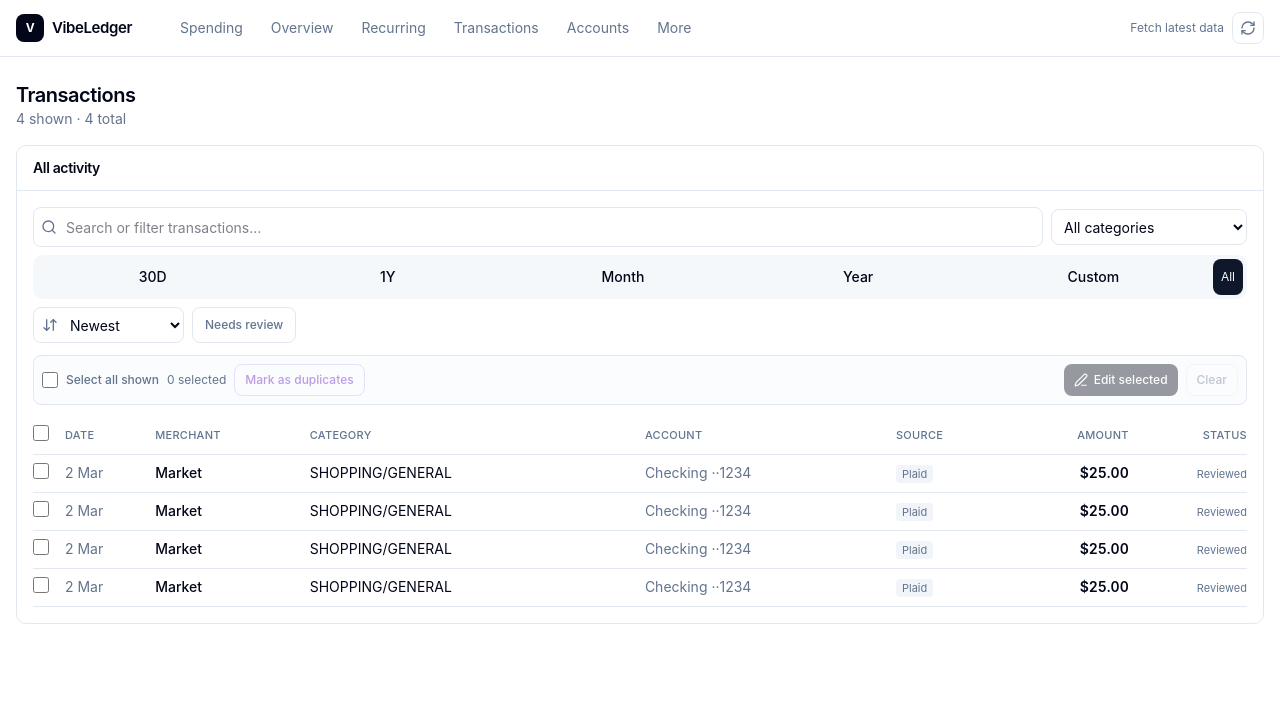
Test: PI-17 frozen duplicate-correction interaction contract › gives deterministic feedback for one or more than two selected rows
The width and height of the screenshot is (1280, 720).
Click the 1st checkbox named "Select Market" at (41, 471), box [33, 463, 49, 479]
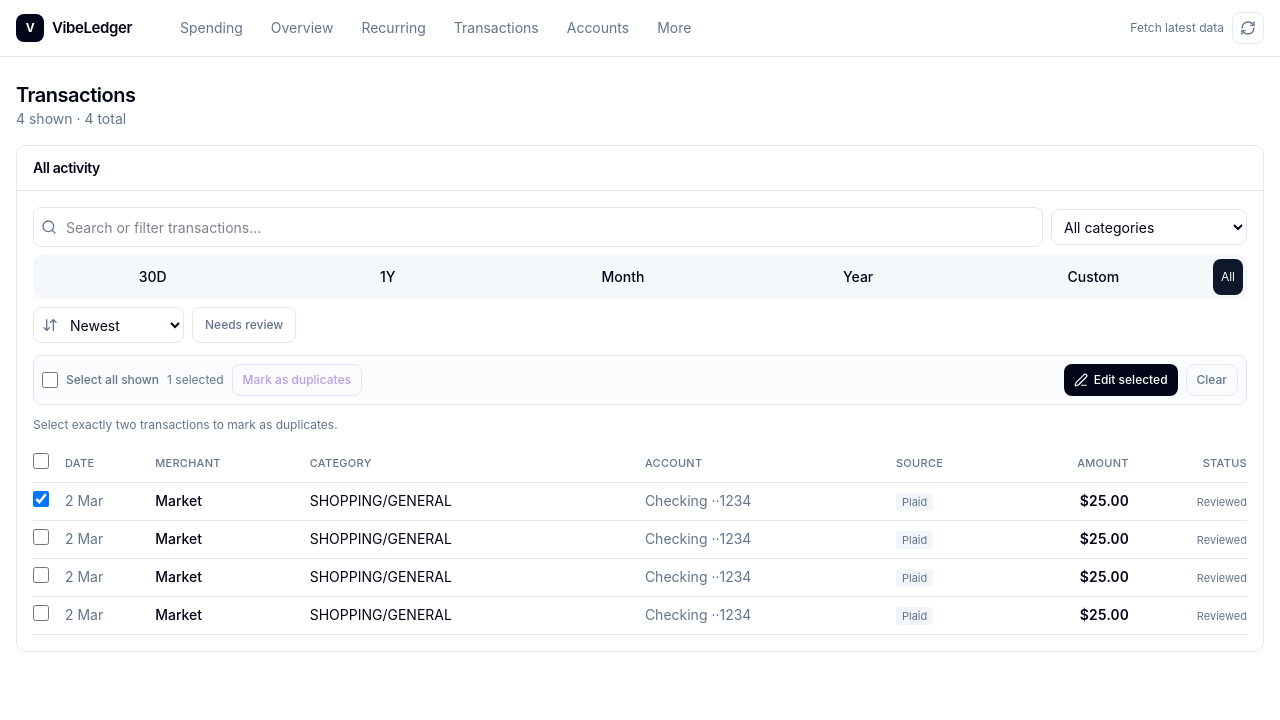
Expected: the button "Mark as duplicates" is disabled, [232, 364, 362, 396]
Now the text "Select exactly two transactions to mark as duplicates." is shown, box [33, 417, 338, 432]
Click the 2nd checkbox named "Select Market" at (41, 537), box [33, 529, 49, 545]
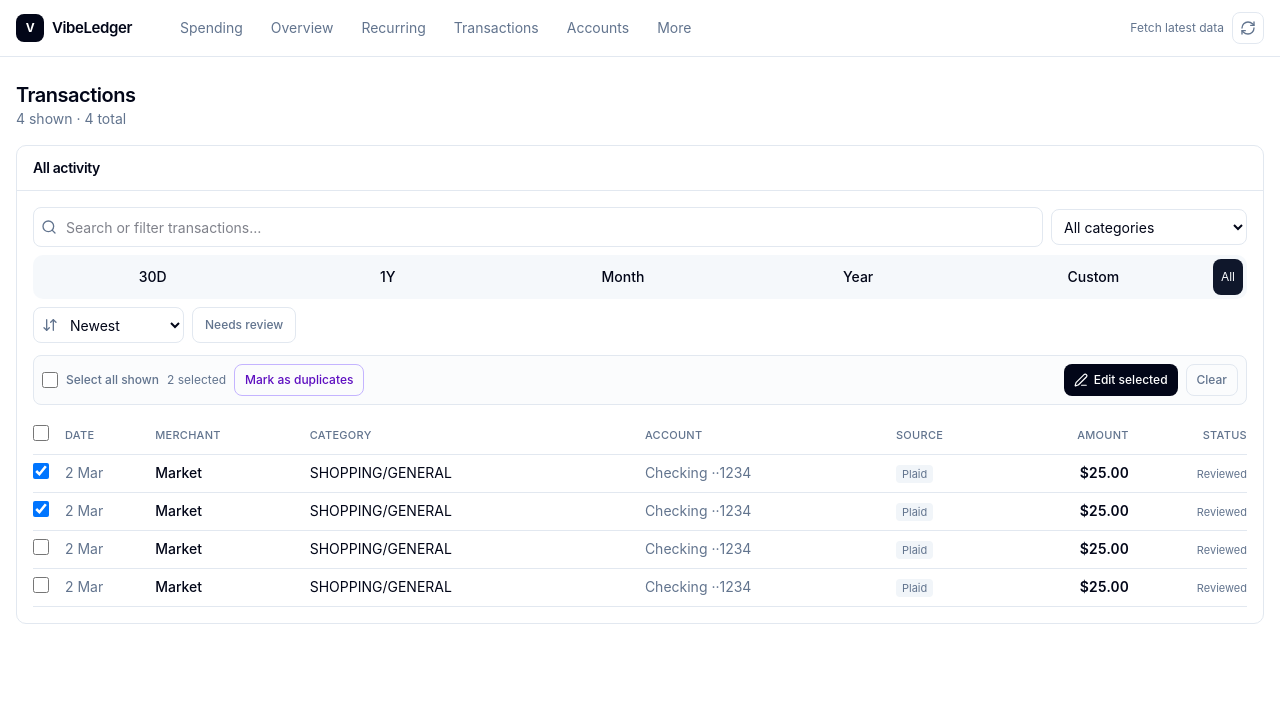
Click the 3rd checkbox named "Select Market" at (41, 547), box [33, 539, 49, 555]
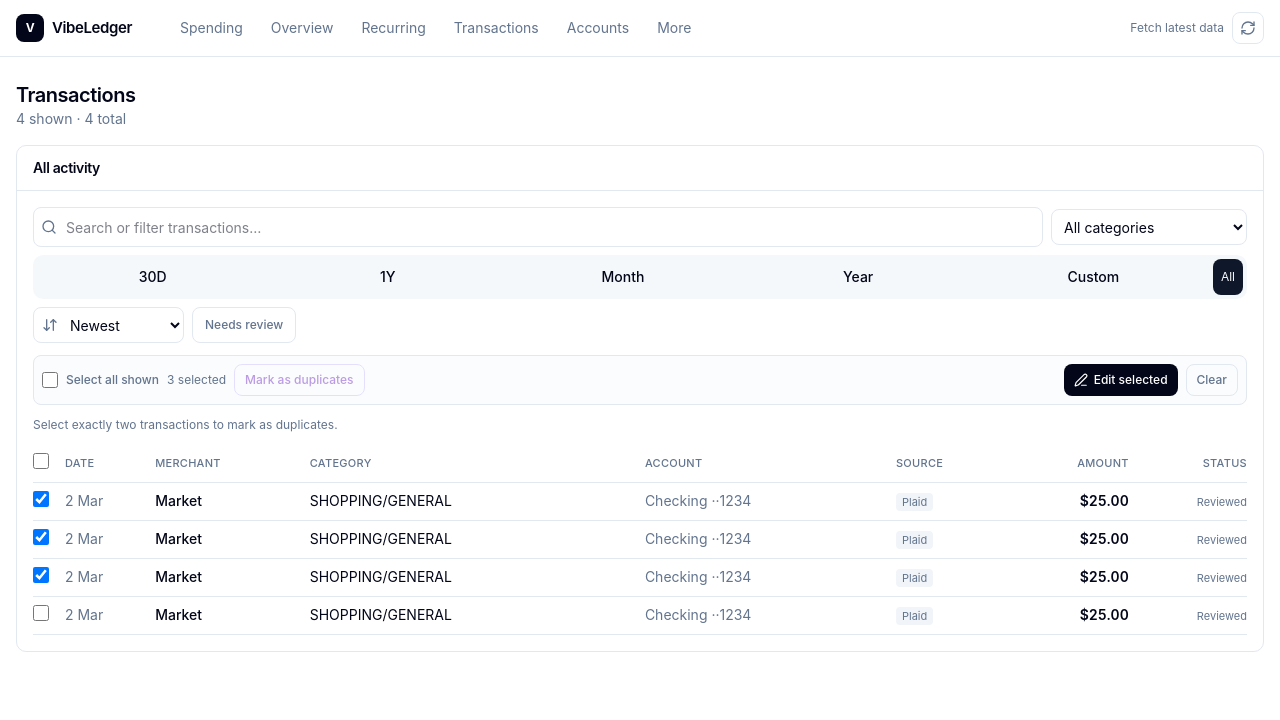
Now the text "Select exactly two transactions to mark as duplicates." is shown, box [33, 417, 338, 432]
Now the button "Mark as duplicates" is disabled, box [234, 364, 364, 396]
